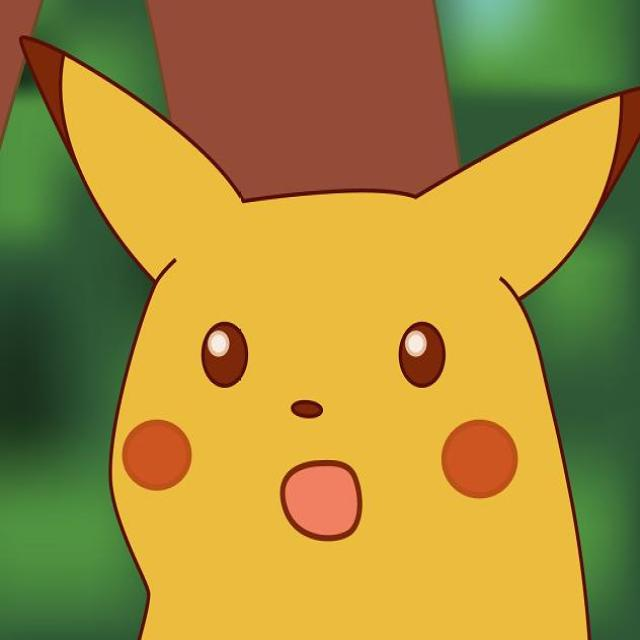pikachu: (20, 35, 640, 640)
